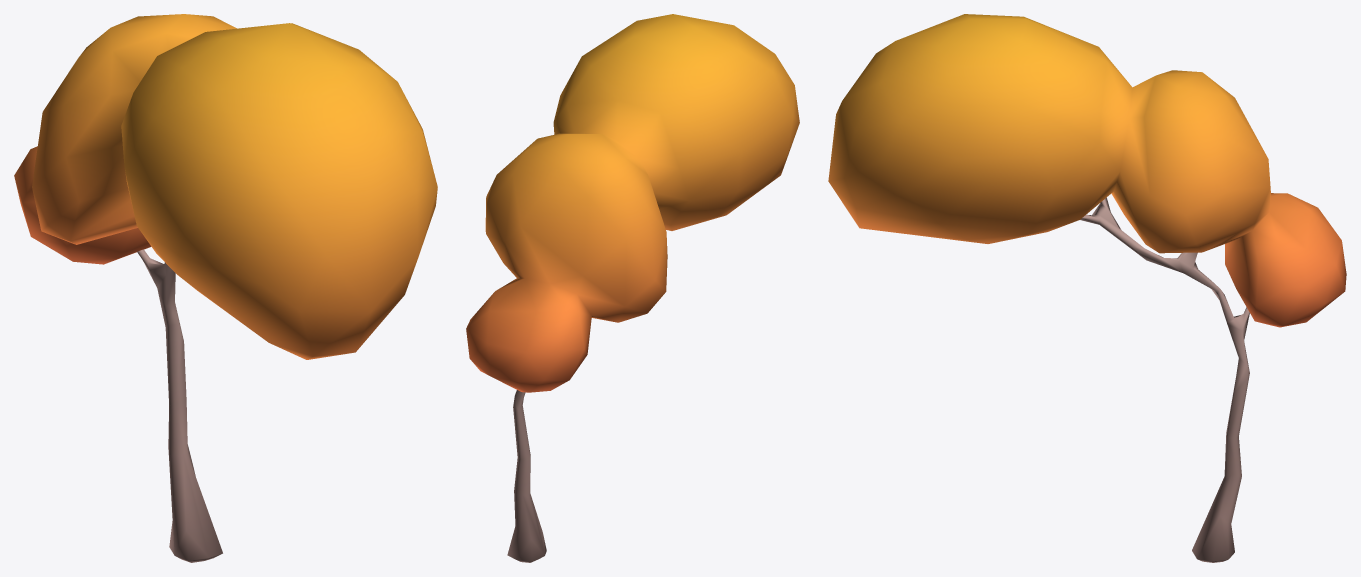
The model's file is Tree03_S_Orange.fbx.
The picture shows the model from 3 angles, left to right: view 1: azimuth 30°, elevation 25°; view 2: azimuth 150°, elevation 25°; view 3: azimuth 270°, elevation 25°; orthographic projection. The views are drawn at different scales.
Parts seen in each view (by area): view 1: Tree03_S_Orange; view 2: Tree03_S_Orange; view 3: Tree03_S_Orange.
Part boxes in pixels (<box>): Tree03_S_Orange: <box>14,14,437,562</box>; Tree03_S_Orange: <box>466,14,799,562</box>; Tree03_S_Orange: <box>828,14,1346,562</box>.
Bounding box in the file's own units: 2.07 × 4.84 × 4.47.
